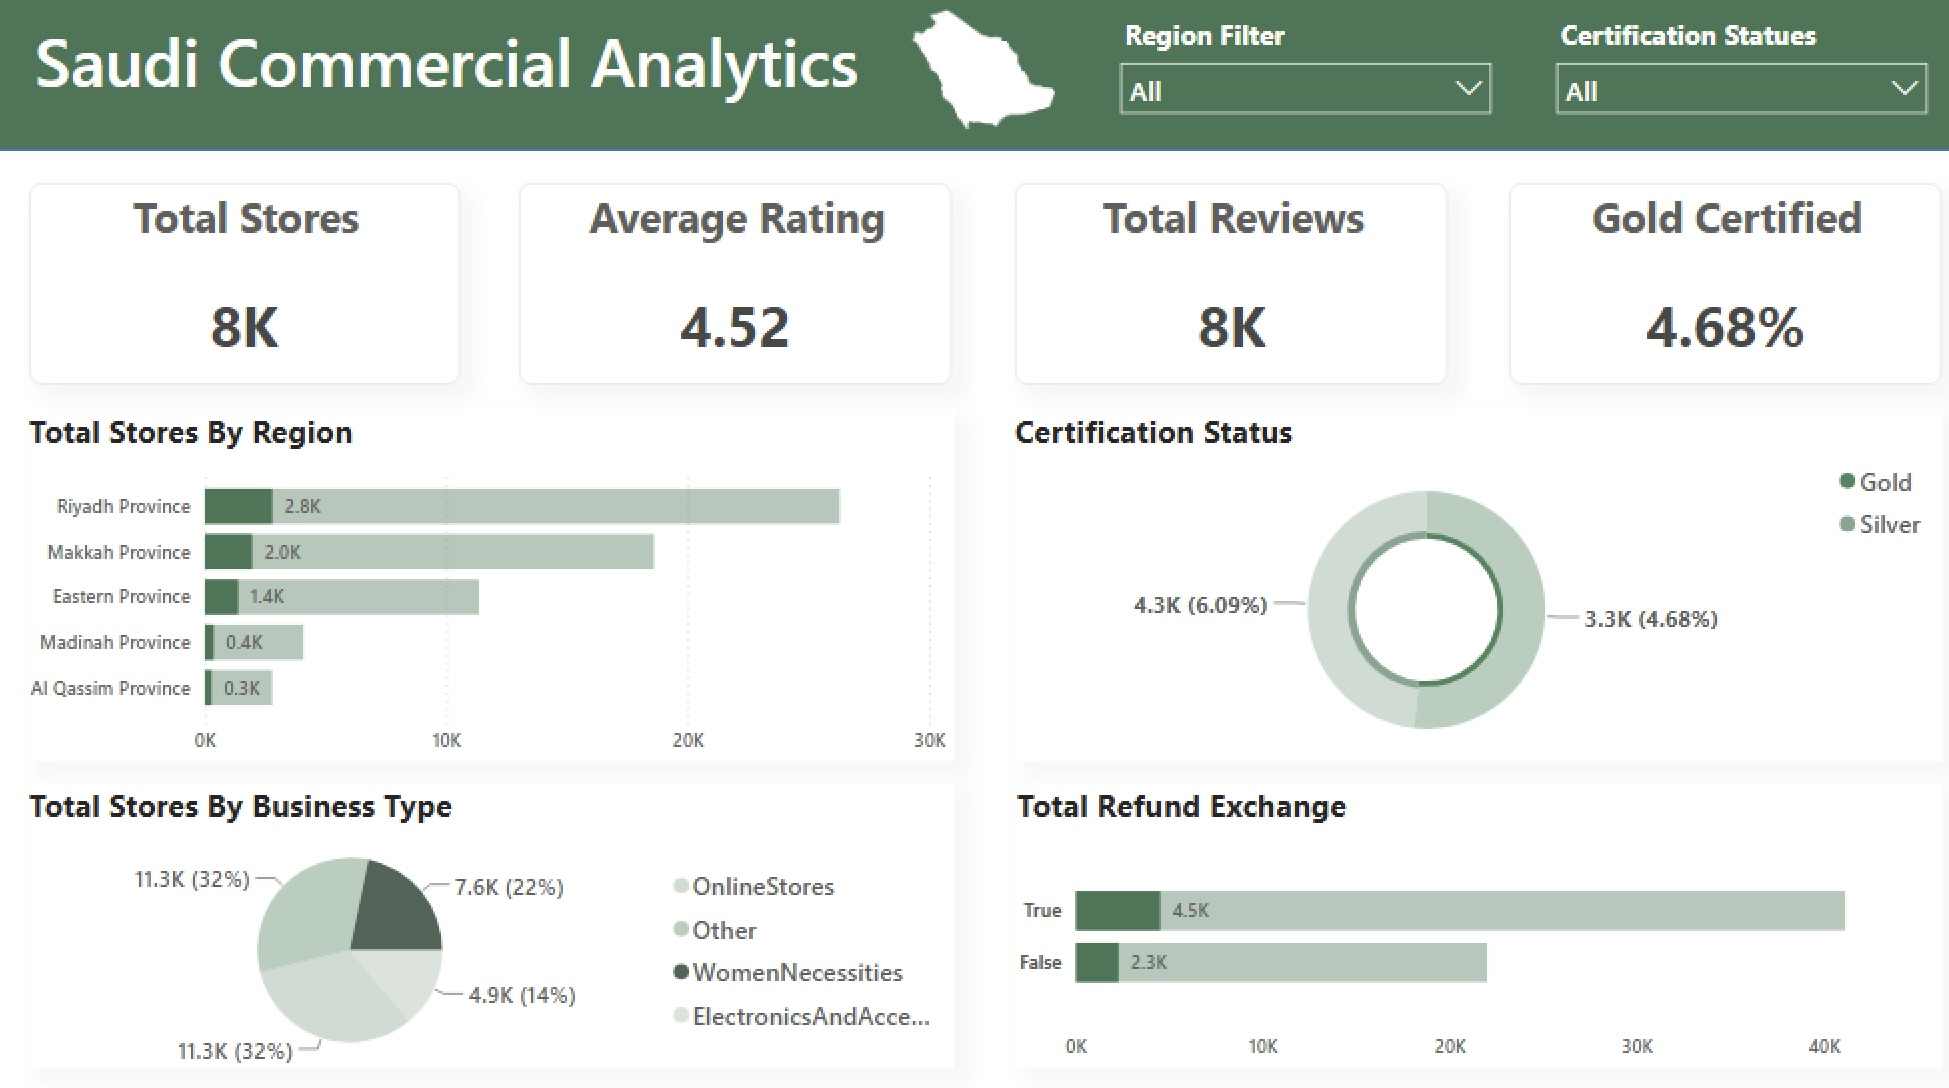

Layout of this report page (visuals, bound fields, positions):
{"tool":"powerbi","page":{"name":"Dashboard","canvas":[1280,720],"ordinal":0},"visuals":[{"type":"cardVisual","title":"Total Stores","fields":{"Data":["measures_table.Total_Stores"]},"box":[20.4,124.1,279.6,131.5],"z":0},{"type":"cardVisual","title":"Average Rating ","fields":{"Data":["measures_table.Avrage_Rating"]},"box":[338.9,124.1,281.5,131.5],"z":1000},{"type":"cardVisual","title":"Gold Certified","fields":{"Data":["measures_table.% Gold_certified"]},"box":[981.5,124.1,281.5,131.5],"z":2000},{"type":"cardVisual","title":"Total Reviews","fields":{"Data":["measures_table.Total_Reviews"]},"box":[661.1,124.1,281.5,131.5],"z":3000},{"type":"shape","box":[0,0,1279.6,103.7],"z":4000},{"type":"textbox","box":[20,11.4,557.1,80],"z":5000},{"type":"image","box":[524.1,0,231.5,101.9],"z":6000},{"type":"clusteredBarChart","title":"Total Stores By Region","fields":{"Y":["measures_table.Total_Stores"],"Category":["dim_table.region_name_eng"]},"box":[20.1,271,600.6,228.9],"z":7000},{"type":"donutChart","title":"Certification Status","fields":{"Y":["CountNonNull(dim_table.id)"],"Category":["dim_table.certification_status"]},"box":[661.1,271,602.5,228.9],"z":8000},{"type":"pieChart","title":"Total Stores By Business Type","fields":{"Category":["dim_table.business_sub_type_en"],"Y":["measures_table.Total_Stores"]},"box":[20.1,514.6,600.6,184.9],"z":9000},{"type":"clusteredBarChart","title":"Total Refund Exchange ","fields":{"Category":["dim_table.has_no_refund_exchange"],"Y":["CountNonNull(fact_table.business_id)"]},"box":[662.9,514.6,600.6,184.9],"z":10000},{"type":"slicer","fields":{"Values":["dim_table.region_name_eng"]},"box":[720,11.4,261.4,80],"z":11000},{"type":"slicer","fields":{"Values":["dim_table.certification_status"]},"box":[1002.9,11.4,261.4,80],"z":12000}]}

Visuals, with their boxes in screenshot pixels (x1, y1, x2, y2), scaled from the page's 1280x720 canvas onto the 1949x1088 screenshot:
"Total Stores" cardVisual: 31,188,457,386
"Average Rating " cardVisual: 516,188,945,386
"Gold Certified" cardVisual: 1494,188,1923,386
"Total Reviews" cardVisual: 1007,188,1435,386
shape: 0,0,1948,157
textbox: 30,17,879,138
image: 798,0,1151,154
"Total Stores By Region" clusteredBarChart: 31,410,945,755
"Certification Status" donutChart: 1007,410,1924,755
"Total Stores By Business Type" pieChart: 31,778,945,1057
"Total Refund Exchange " clusteredBarChart: 1009,778,1924,1057
slicer - dim_table.region_name_eng: 1096,17,1494,138
slicer - dim_table.certification_status: 1527,17,1925,138
